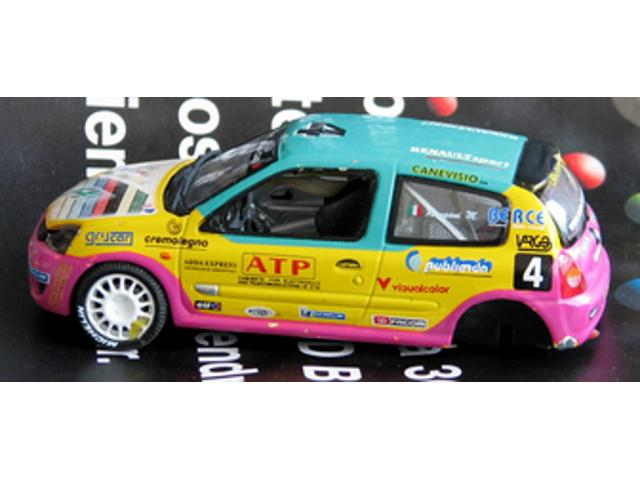toy-car: (28, 112, 610, 350)
